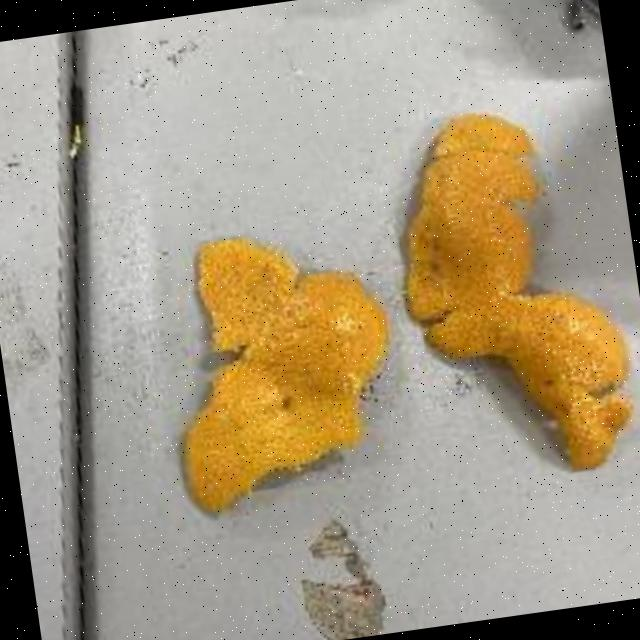orange-peel: (378, 92, 640, 492), (148, 213, 412, 518)
